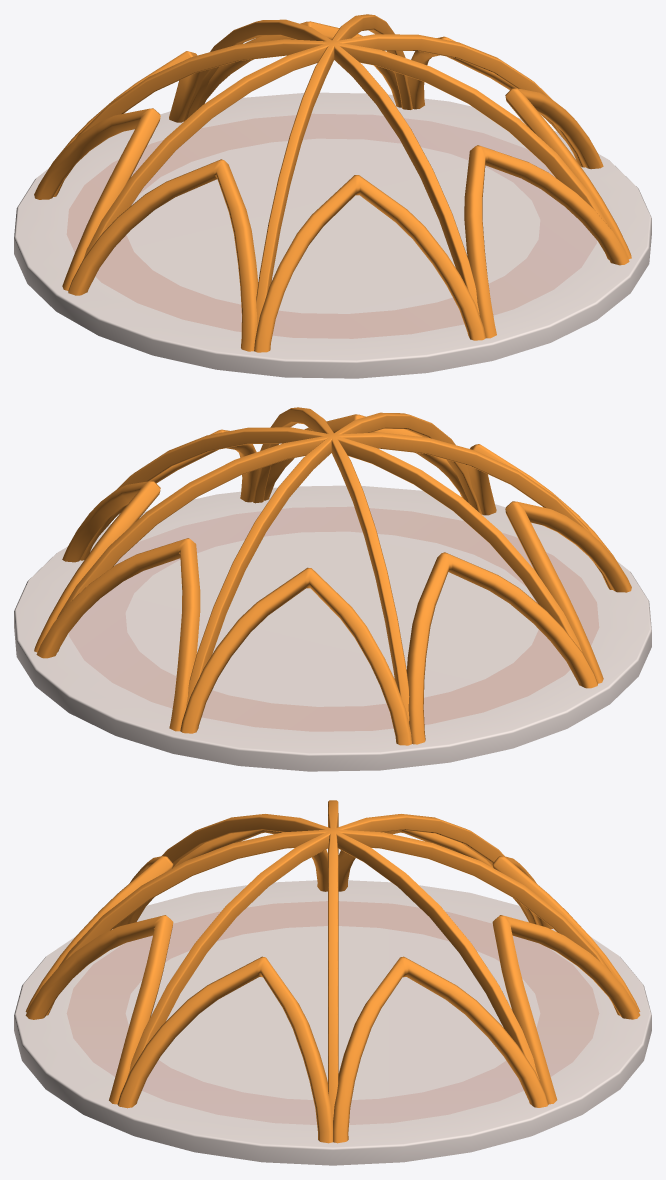
Rendered from decoration_007.gltf.
3 views of the same model, one above another, from view 1: azimuth 30°, elevation 25°; view 2: azimuth 150°, elevation 25°; view 3: azimuth 270°, elevation 25° (orthographic).
Parts seen in each view (by area): view 1: decoration_007; view 2: decoration_007; view 3: decoration_007.
Part boxes in pixels (x1,y1,x2,y2): decoration_007: [14, 14, 651, 378]; decoration_007: [14, 407, 651, 771]; decoration_007: [14, 800, 651, 1165].
Size of the model in its own units: 21.92 by 7.6 by 21.92.
1 material, 1 textured.
